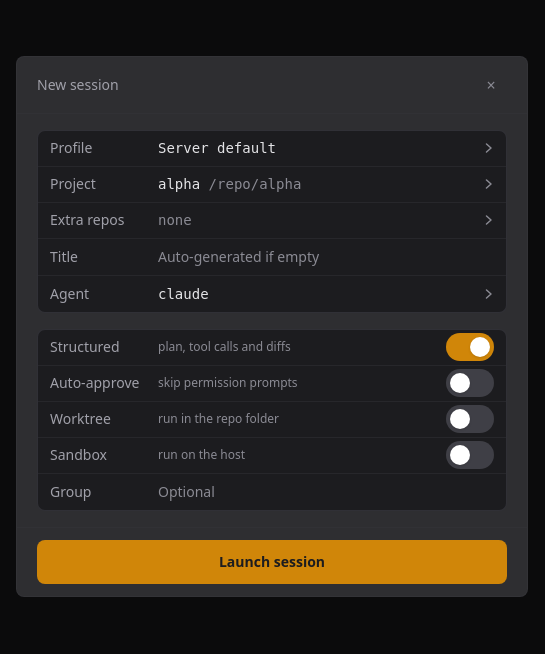
project sandbox override on the remembered last-used path › switching profile in the wizard › back to the server default profile › names the default profile when its project request fails
Click the text "Profile" at point(71, 148), box [50, 138, 92, 157]
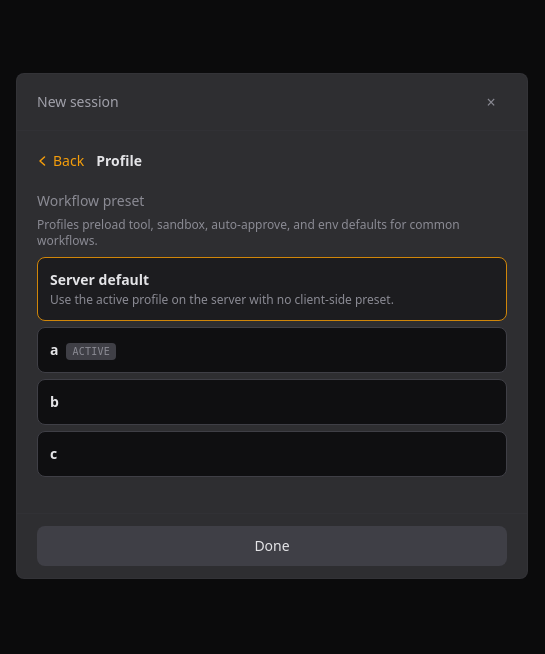
Click the radio button labelled "b" at point(54, 402), box [37, 379, 507, 425]
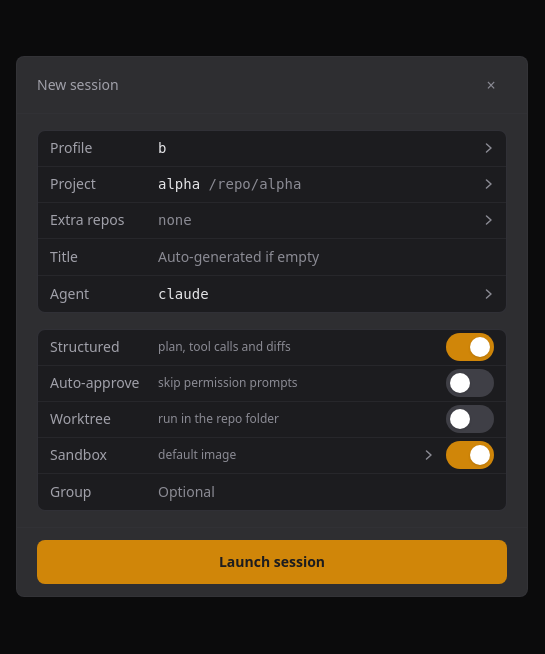
Click the text "Profile" at point(71, 148), box [50, 138, 92, 157]
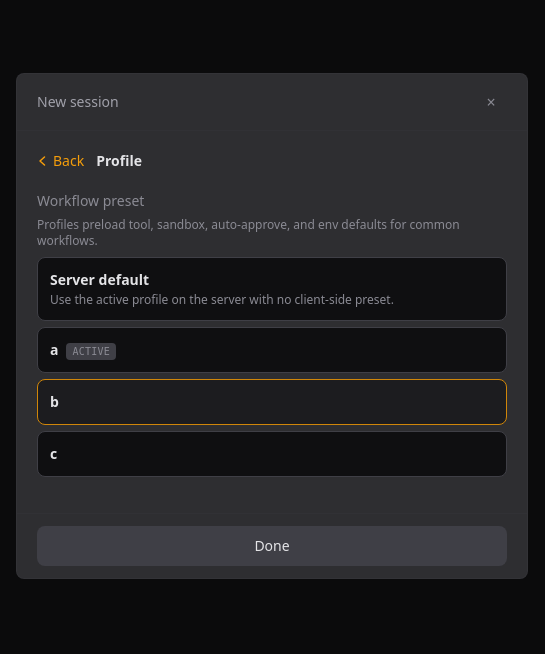
Click the radio button labelled "Server default" at point(272, 289), box [37, 257, 507, 321]
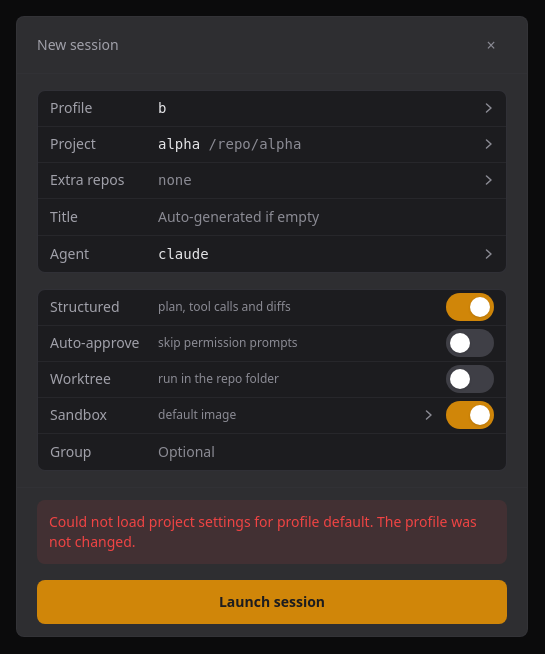
Result: the text "Could not load project settings for profile default" is shown at [49, 512, 477, 550]
